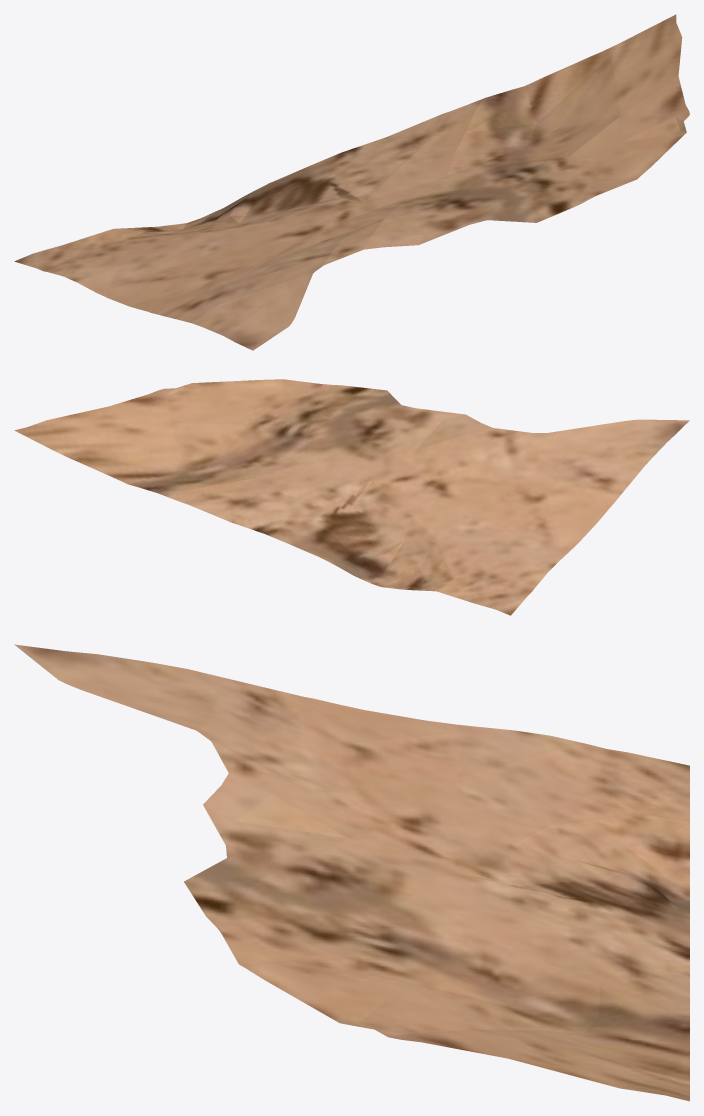
3 renders of one model, top to bottom at view 1: azimuth 30°, elevation 25°; view 2: azimuth 150°, elevation 25°; view 3: azimuth 270°, elevation 25°, orthographic. The views are drawn at different scales.
Size of the model in its own units: 1.34 by 0.1734 by 0.8391.
Materials: 1 (1 with a texture image).
